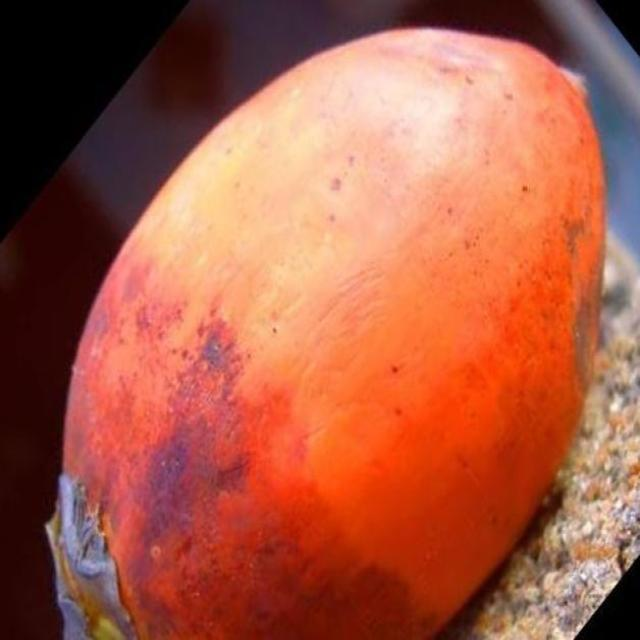good: (45, 27, 608, 639)
